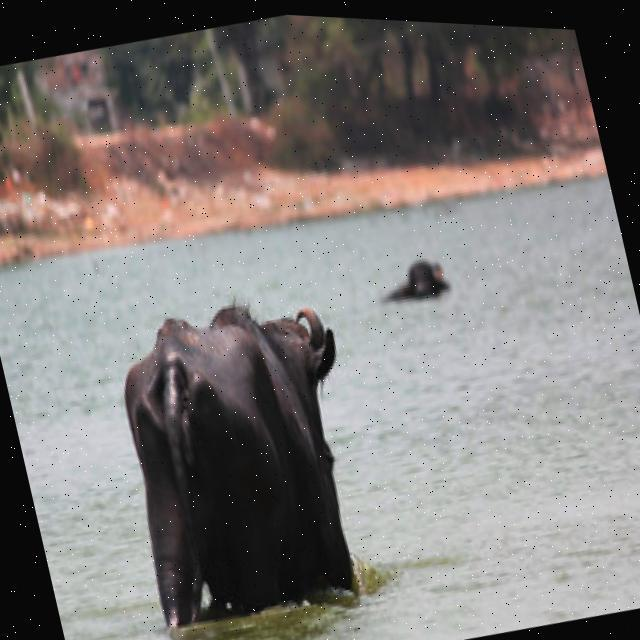Buffalo: (92, 268, 393, 640)
